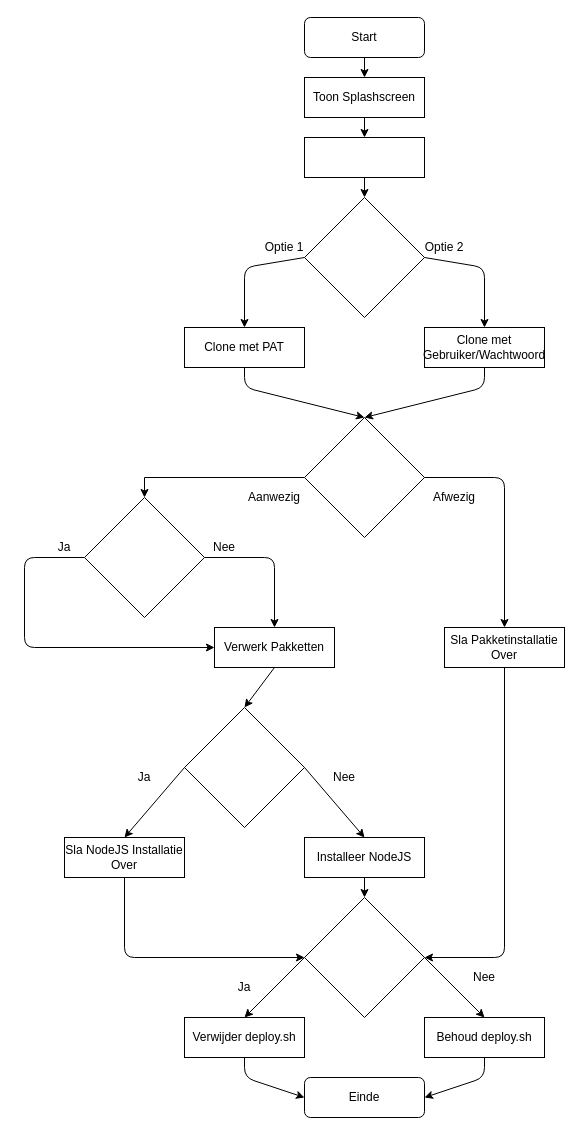
The diagram is 582 pixels wide and 1135 high, and some of its shapes have lost their labels. Each missing label, with the centre of its shape:
"Controleer op pak.txt" goes at (x=364, y=477).
"dpkg controle? (Code Flag)" goes at (x=144, y=557).
"Installeer Vereiste Pakketten" goes at (x=364, y=157).
"Kies Git Clone Methode" goes at (x=364, y=257).
"NodeJS Bypass? (Code Flag)" goes at (x=244, y=767).
"Verwijder Script? (Code Flag)" goes at (x=364, y=957).
